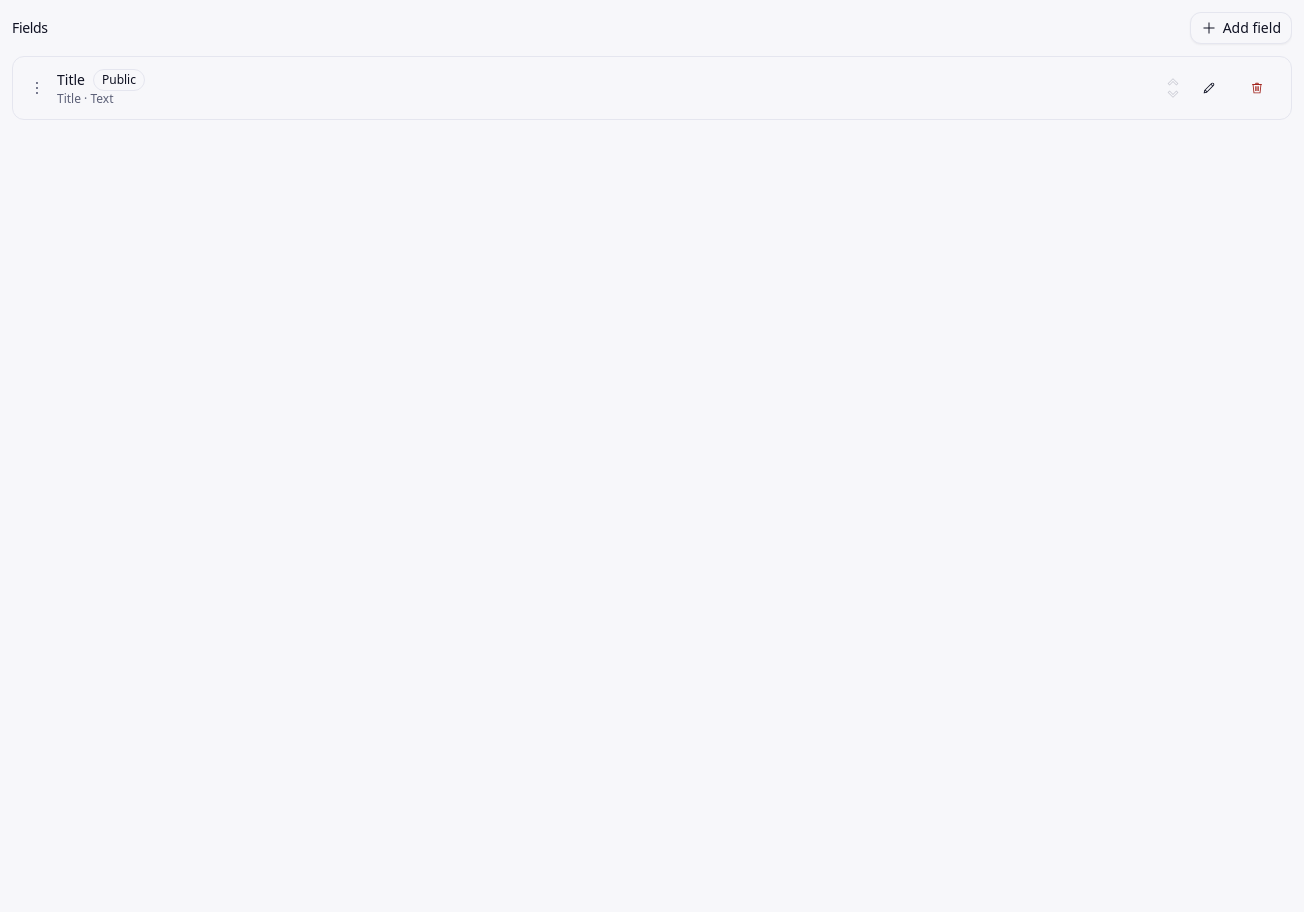
Test: the members a field type adds › refuses a role another field already holds
Click the button "Add field".
click(1241, 28)  # box [1190,12,1292,44]
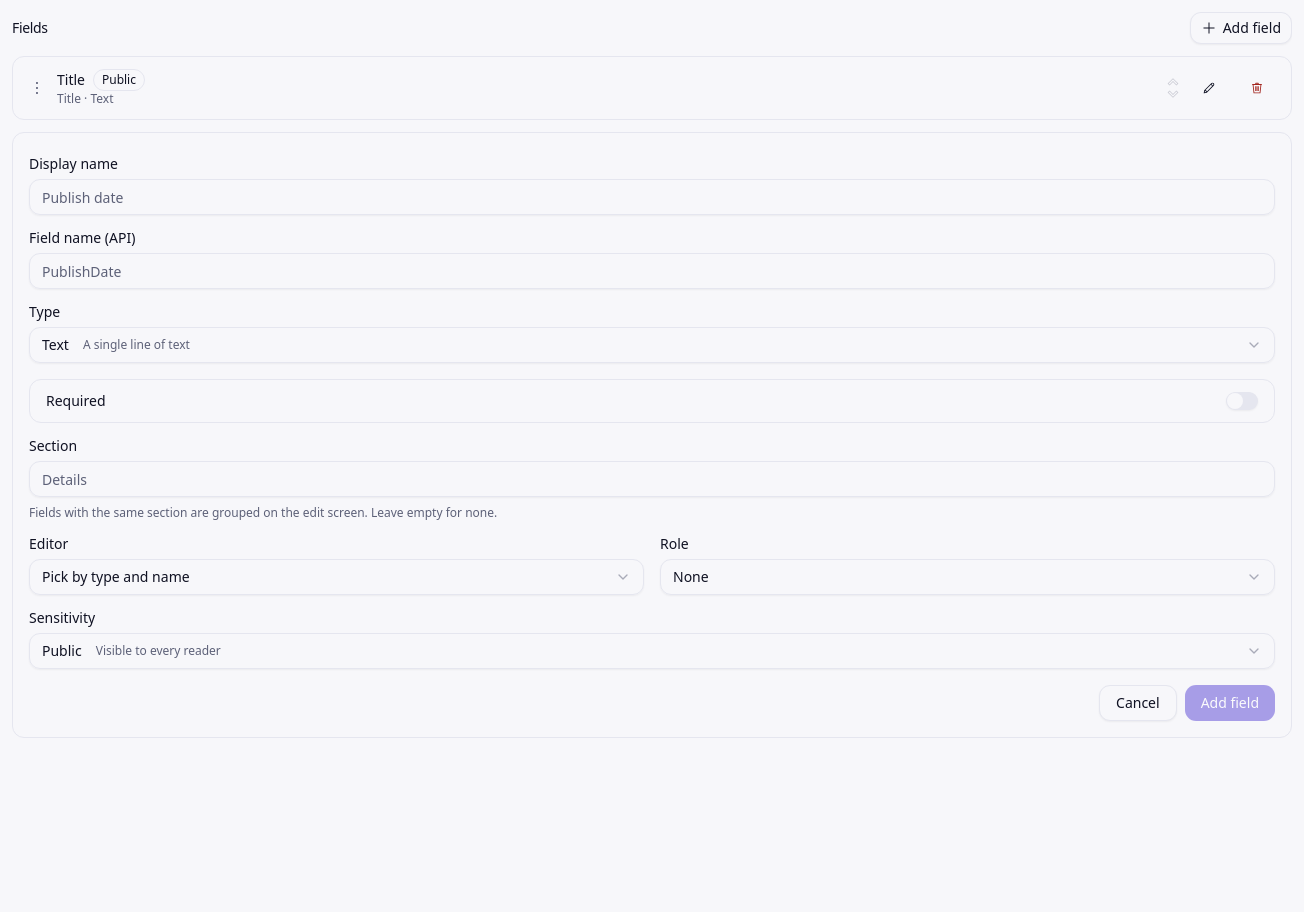
Type "Name" into the field labelled "Display name".
click(652, 197); type("Name")  # box [29,179,1275,215]
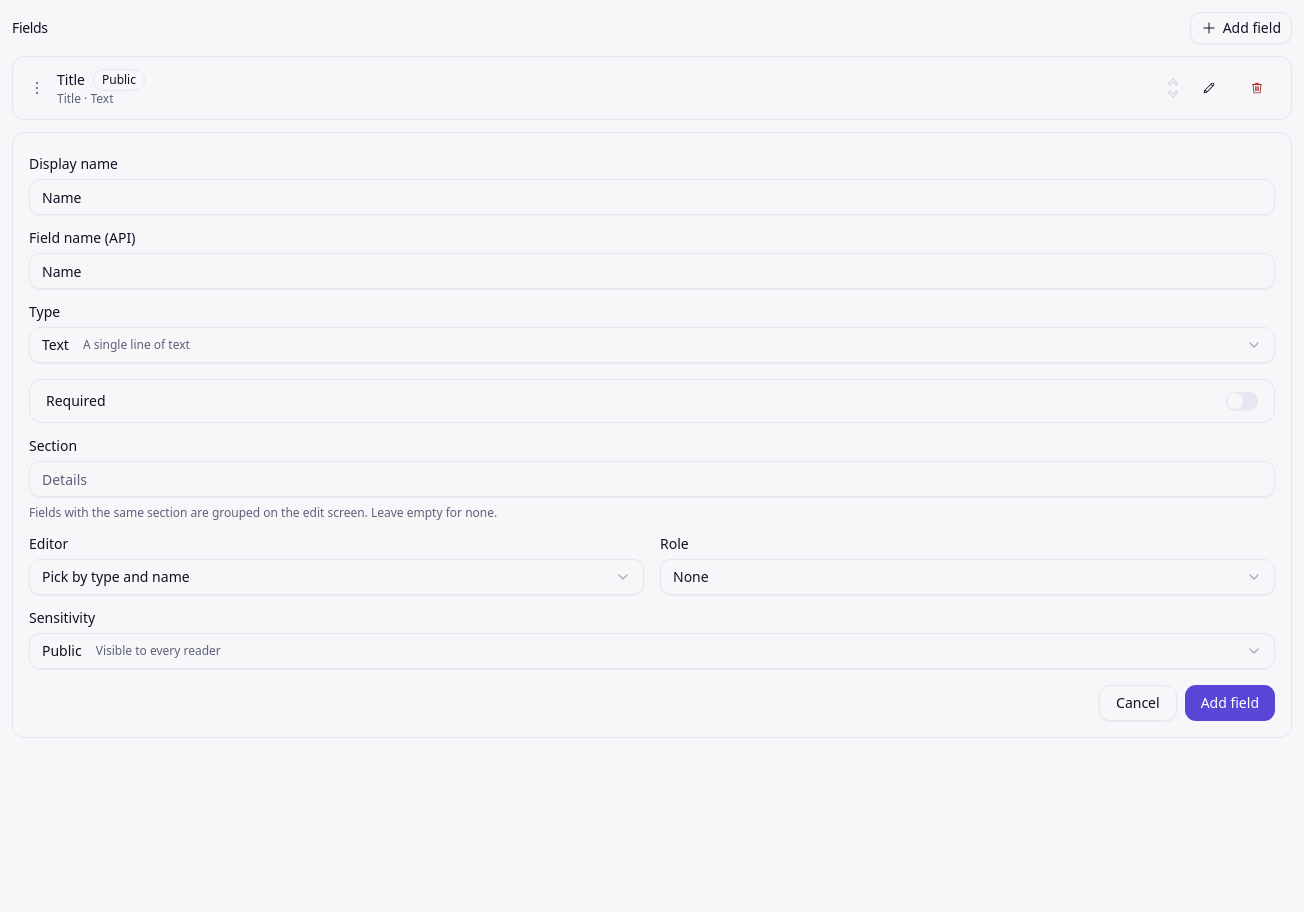
Now the 2nd button "Add field" is enabled, box [1185,685,1275,721]
# Enabled first, so the refusal below is the role's doing and not a name still being checked.
Press ArrowDown in the dropdown named "Role", box [660,559,1275,595]
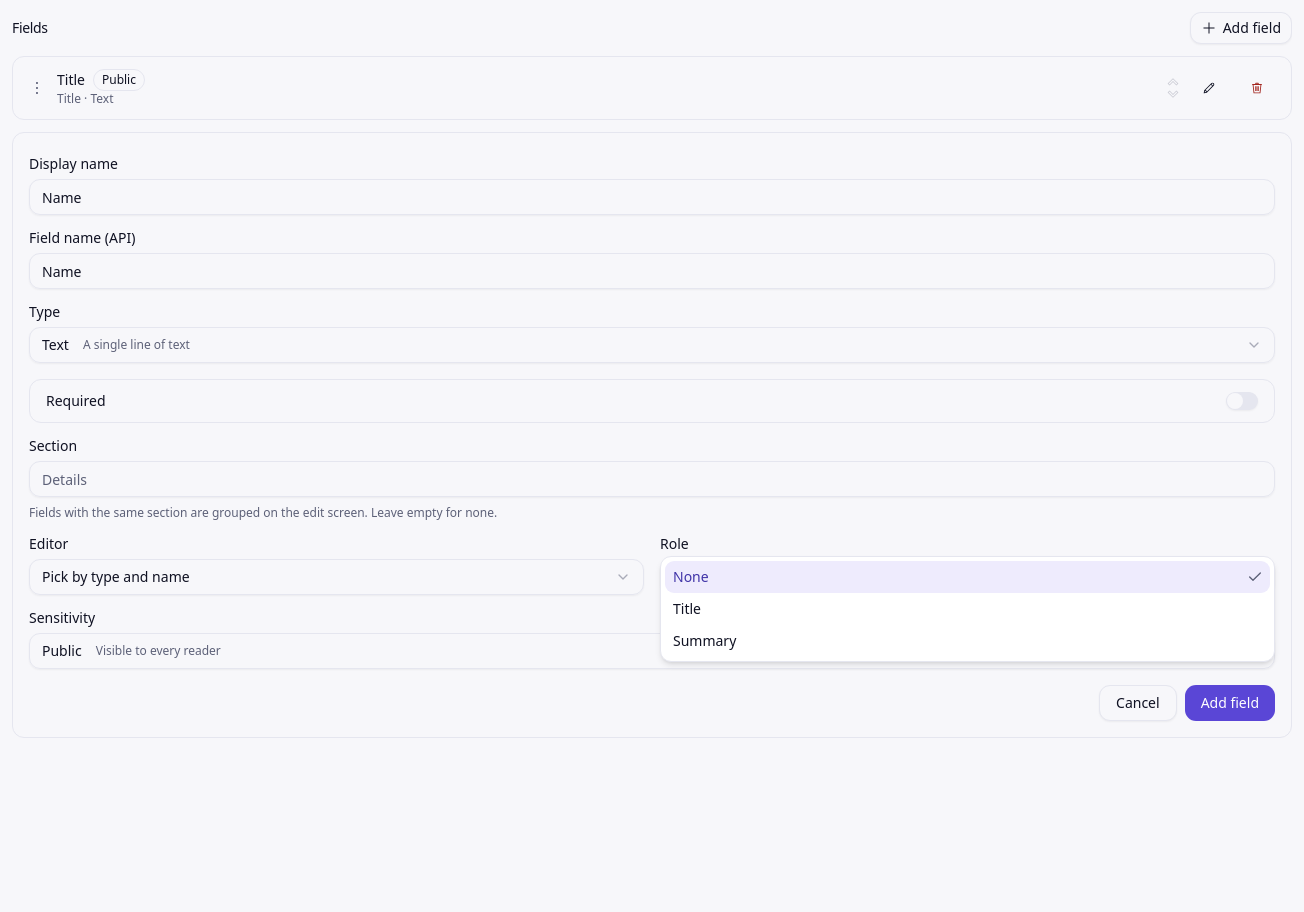
Press Enter in the option "Title", box [673,599,701,618]
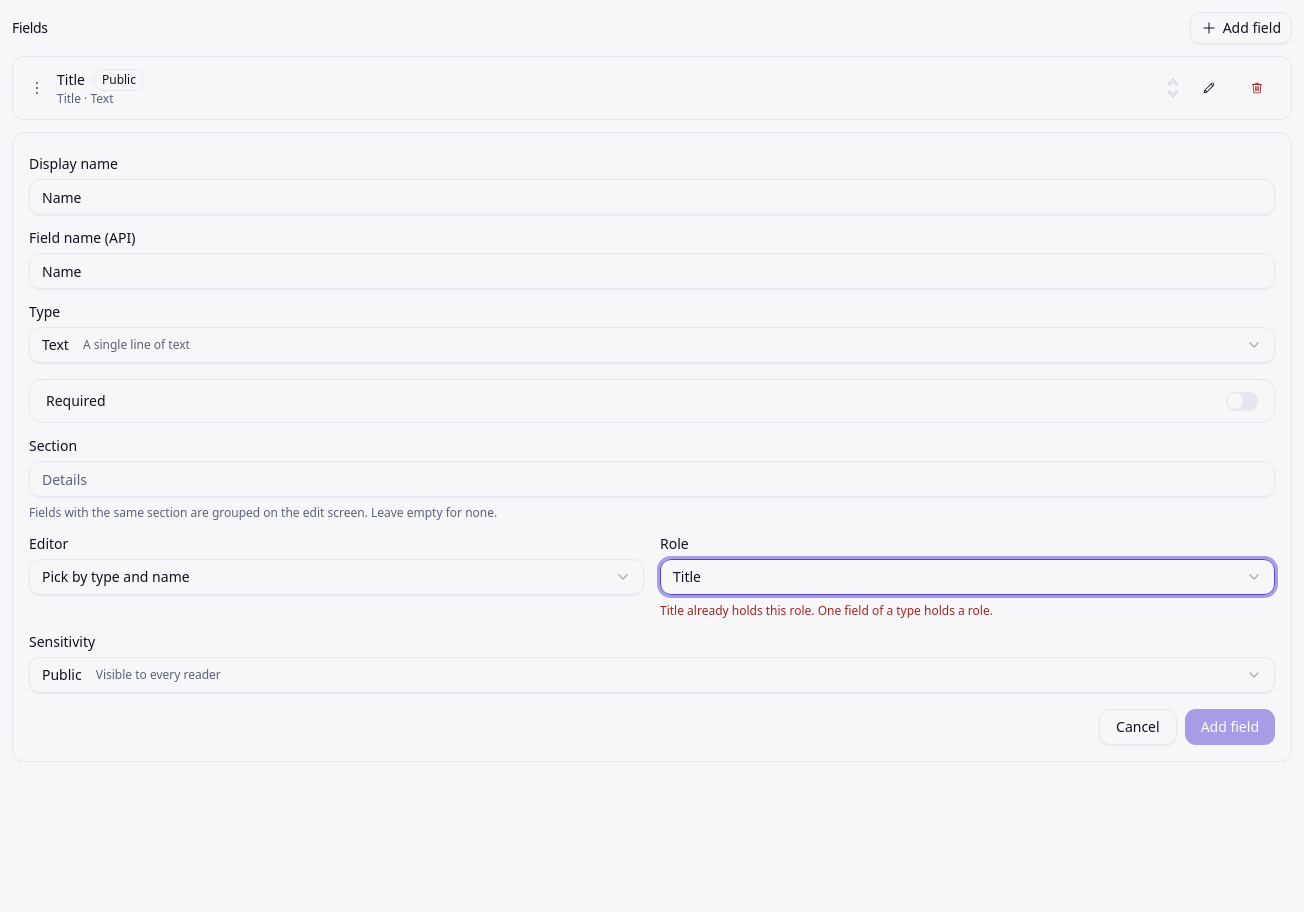
Now the text "already holds this role" is shown, box [660,602,993,619]
Now the 2nd button "Add field" is disabled, box [1185,709,1275,745]
